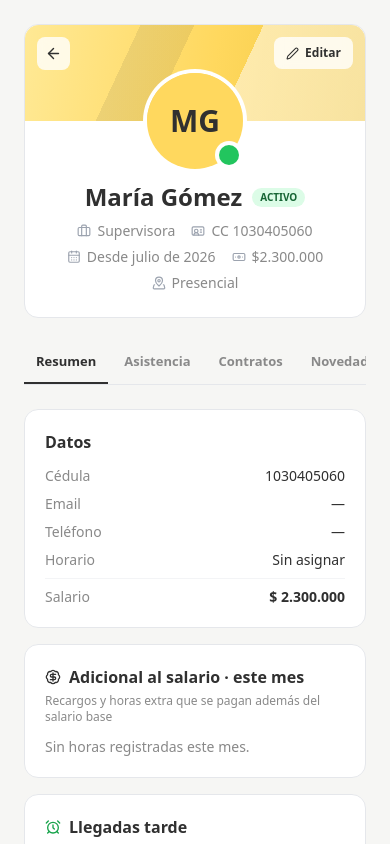
Test: guardar en «Editar datos» › si el servidor rechaza el cambio, su mensaje se ve dentro de la ventana y la ventana sigue abierta
Step 1. Click the button "Editar" → (314, 53), box [274,37,353,69]
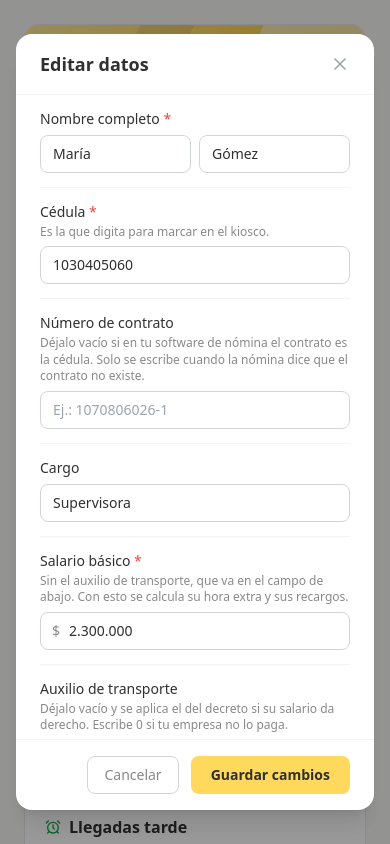
Check: the heading "Editar datos" is shown, box [40,50,149,78]
Step 2. Click the button "Guardar cambios" → (270, 775), box [191,756,350,794]
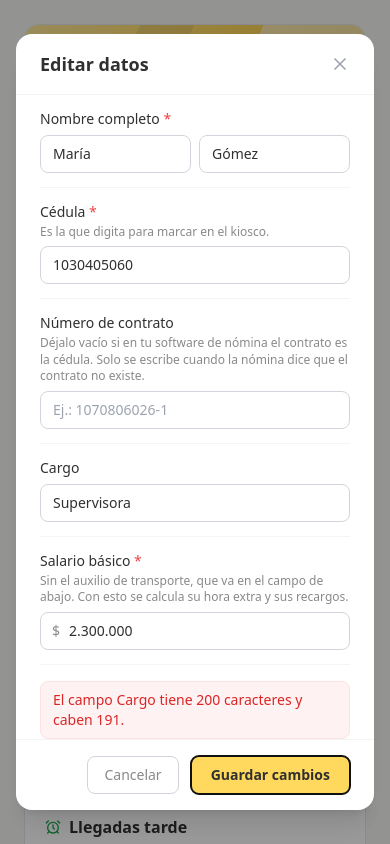
Check: the heading "Editar datos" is shown, box [40,50,149,78]
Check: the message reads "El campo Cargo tiene 200 caracteres y caben 191.", box [53,690,302,729]
